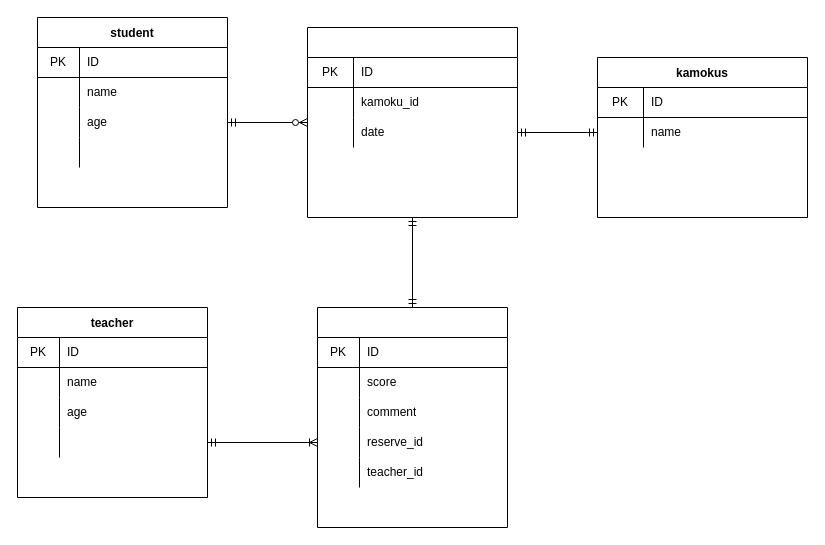
Image size: 825x545. Some labels were removed from this diagram. Each missing label, with the box of its shape:
reserve: (306, 26, 518, 218)
result: (316, 306, 508, 528)
